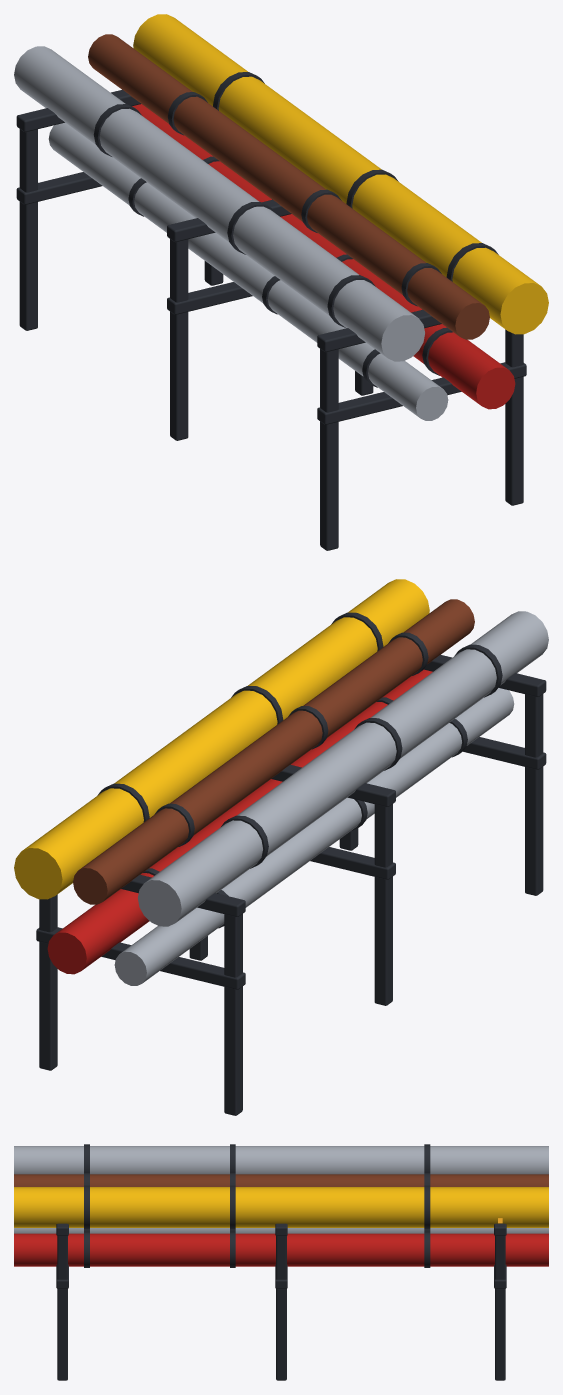
The model's file is prop_pipe_rack.glb.
The picture shows the model from 3 angles, top to bottom: view 1: azimuth 30°, elevation 25°; view 2: azimuth 150°, elevation 25°; view 3: azimuth 270°, elevation 25°; orthographic projection. The views are drawn at different scales.
Parts seen in each view (by area): view 1: PipeRack; view 2: PipeRack; view 3: PipeRack.
Boxes of the visible parts, x1,y1,x2,y2 form: PipeRack: [14, 14, 548, 550]; PipeRack: [14, 579, 548, 1115]; PipeRack: [14, 1144, 548, 1380].
Size of the model in its own units: 3.5 by 4.15 by 11.
